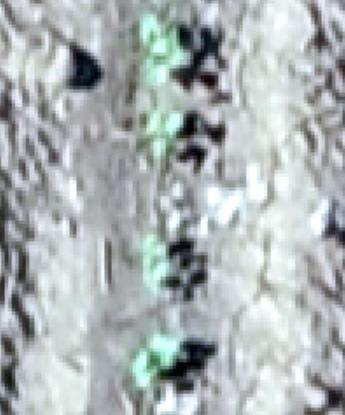cotton: (146, 28, 177, 56), (152, 112, 182, 138), (133, 352, 156, 382), (156, 336, 176, 368), (147, 61, 168, 86), (146, 262, 173, 281), (144, 236, 164, 261)
